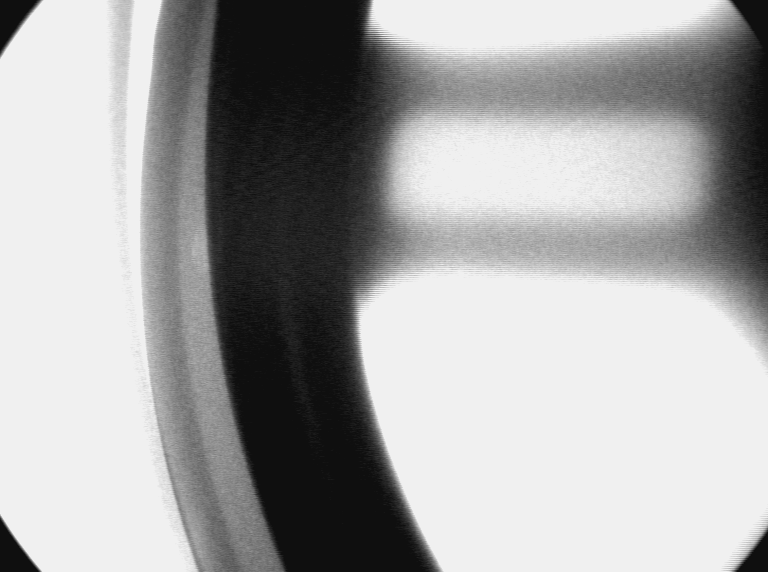defect: (189, 219, 228, 277)
